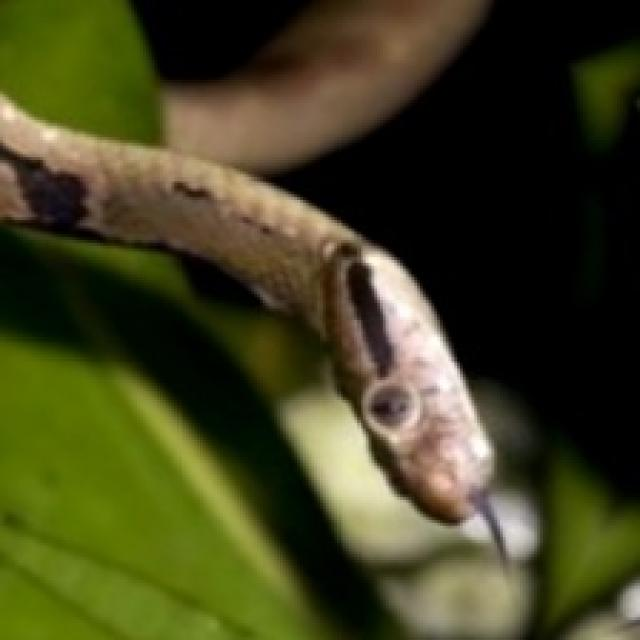king cobra: (0, 96, 492, 522)
